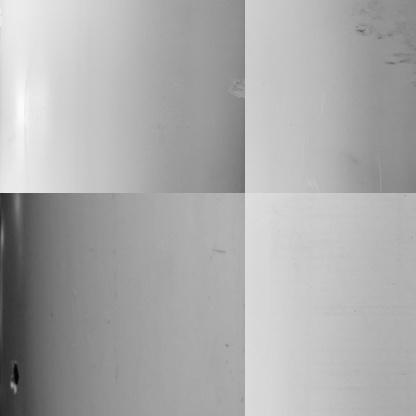kongdong: (7, 355, 24, 395)
sunshang: (226, 76, 249, 101)
